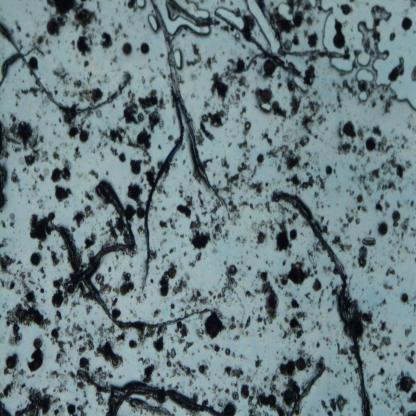Air bubble: (354, 2, 390, 81)
Background material: (0, 115, 42, 165), (261, 132, 315, 170), (273, 201, 304, 258), (179, 283, 224, 316), (13, 384, 56, 416), (364, 318, 393, 365), (223, 312, 268, 342), (97, 266, 134, 302), (280, 296, 309, 340), (21, 207, 55, 244), (258, 270, 280, 320), (332, 70, 359, 110), (12, 304, 51, 329), (65, 323, 94, 356), (300, 97, 325, 134), (379, 152, 408, 182), (222, 280, 252, 308), (237, 136, 256, 180), (206, 73, 231, 106), (48, 369, 76, 398), (325, 362, 354, 390), (140, 148, 160, 187), (391, 230, 411, 269), (17, 271, 38, 306), (17, 81, 42, 110), (138, 90, 168, 114), (119, 103, 146, 128), (46, 1, 74, 25), (74, 1, 97, 30), (201, 106, 231, 128), (229, 194, 265, 212), (373, 91, 399, 115), (184, 244, 206, 272), (95, 325, 129, 343), (51, 338, 70, 370), (100, 126, 130, 146), (288, 172, 316, 192), (195, 120, 218, 144), (171, 271, 193, 296), (221, 171, 241, 197), (242, 12, 258, 44), (250, 216, 267, 246), (29, 32, 52, 54), (233, 73, 251, 101), (262, 364, 280, 392), (54, 62, 73, 88), (386, 56, 404, 83), (122, 181, 144, 203), (190, 231, 213, 252), (175, 194, 194, 219), (0, 162, 9, 214), (185, 41, 203, 67), (248, 384, 263, 414), (372, 177, 399, 193), (26, 351, 46, 372), (77, 87, 104, 102), (286, 93, 302, 118), (147, 111, 166, 132), (76, 34, 93, 57), (223, 366, 247, 382), (333, 235, 353, 254), (270, 102, 289, 122), (158, 214, 176, 235), (136, 130, 154, 151), (381, 383, 394, 412), (342, 214, 364, 231), (0, 254, 17, 276), (78, 181, 94, 204), (177, 362, 197, 380), (306, 249, 321, 272), (358, 175, 375, 195), (213, 224, 230, 244), (196, 188, 209, 213), (203, 53, 220, 72), (376, 194, 392, 214), (330, 392, 346, 412), (334, 142, 355, 157), (0, 380, 17, 398), (336, 342, 352, 361), (96, 341, 112, 360), (378, 136, 396, 152), (141, 364, 155, 384), (52, 168, 72, 182), (98, 32, 114, 49), (11, 170, 22, 194), (159, 276, 171, 298), (200, 339, 220, 352), (318, 397, 333, 414), (399, 215, 413, 233), (163, 349, 177, 367), (315, 294, 327, 315), (72, 210, 86, 228), (0, 235, 13, 254), (315, 314, 328, 333), (156, 180, 168, 200), (402, 347, 416, 364), (181, 340, 196, 355), (359, 245, 368, 270), (310, 336, 324, 352), (396, 403, 416, 414), (176, 322, 188, 340), (80, 300, 95, 314), (352, 144, 367, 158), (249, 182, 264, 196), (153, 336, 164, 354), (83, 205, 97, 219), (37, 168, 50, 183), (400, 324, 413, 339), (149, 246, 162, 261), (72, 146, 84, 162), (366, 168, 382, 180), (223, 347, 239, 359), (87, 167, 100, 181), (236, 104, 250, 117), (95, 393, 107, 408), (263, 200, 273, 218), (317, 173, 327, 191), (219, 155, 230, 170), (169, 302, 178, 320), (68, 126, 78, 142), (117, 151, 129, 164), (242, 119, 253, 133), (253, 356, 265, 368), (382, 280, 394, 292), (53, 149, 63, 163), (372, 124, 383, 136), (62, 159, 74, 170), (385, 266, 396, 278), (44, 150, 52, 166), (389, 29, 398, 43), (152, 307, 163, 318), (128, 338, 138, 350), (349, 164, 359, 176), (377, 369, 387, 379), (410, 64, 416, 80), (0, 220, 8, 231), (10, 212, 16, 226), (82, 60, 92, 68), (410, 194, 416, 207), (394, 202, 403, 210), (412, 300, 416, 318), (110, 148, 118, 156), (168, 132, 173, 144), (314, 191, 321, 199), (382, 296, 386, 310), (392, 350, 398, 359), (398, 344, 402, 349)
Cellulose filter fibre: (273, 189, 376, 416), (148, 1, 235, 224), (52, 224, 210, 329), (0, 20, 136, 112), (61, 180, 136, 298), (75, 370, 225, 416), (271, 13, 352, 60), (210, 54, 310, 92), (295, 361, 328, 415), (166, 0, 221, 30)
Cotton: (140, 89, 183, 292)
Diatom: (206, 314, 223, 336), (398, 374, 414, 394), (289, 267, 305, 286), (332, 33, 349, 50), (54, 185, 69, 203), (281, 388, 295, 407), (46, 17, 60, 35), (343, 120, 356, 139), (364, 135, 378, 152), (5, 355, 19, 372), (263, 59, 276, 77), (376, 222, 390, 238), (29, 252, 44, 266), (51, 292, 63, 309), (121, 42, 135, 56), (340, 4, 354, 18), (296, 356, 307, 373), (224, 401, 237, 415), (362, 236, 377, 248), (390, 208, 402, 223), (260, 89, 272, 104), (110, 355, 122, 370), (78, 130, 90, 144), (166, 266, 178, 280), (239, 386, 250, 401), (313, 279, 324, 294), (140, 41, 151, 55), (79, 356, 90, 370), (130, 162, 141, 176), (30, 57, 40, 72), (308, 34, 318, 49), (401, 18, 412, 31), (7, 312, 18, 325), (66, 402, 77, 415), (358, 78, 368, 92), (136, 206, 146, 220), (196, 364, 207, 376), (32, 338, 43, 350), (269, 393, 277, 409), (230, 390, 240, 402), (7, 336, 17, 348), (325, 164, 334, 177), (400, 293, 410, 304), (289, 230, 299, 241), (98, 373, 108, 384), (228, 265, 237, 276), (120, 285, 128, 297), (334, 20, 342, 32), (50, 330, 59, 338)
